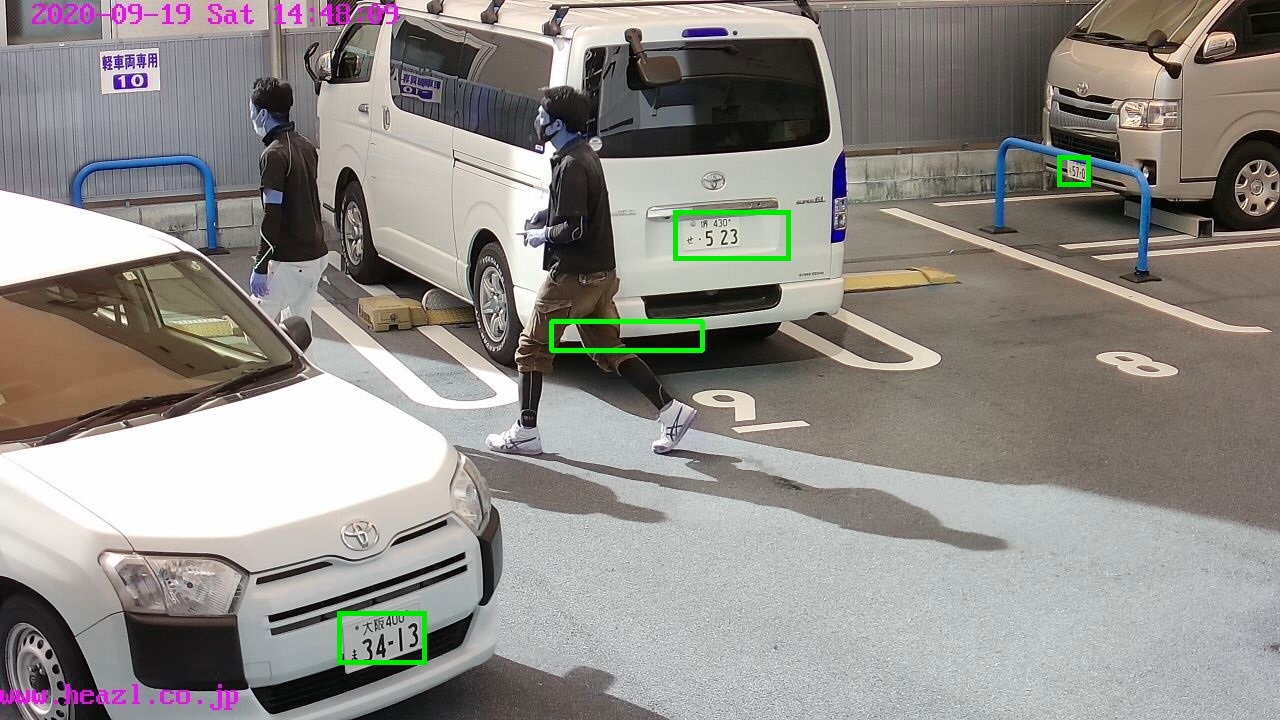number_plate: (350, 609, 423, 661), (682, 211, 749, 249), (1064, 159, 1094, 180)
